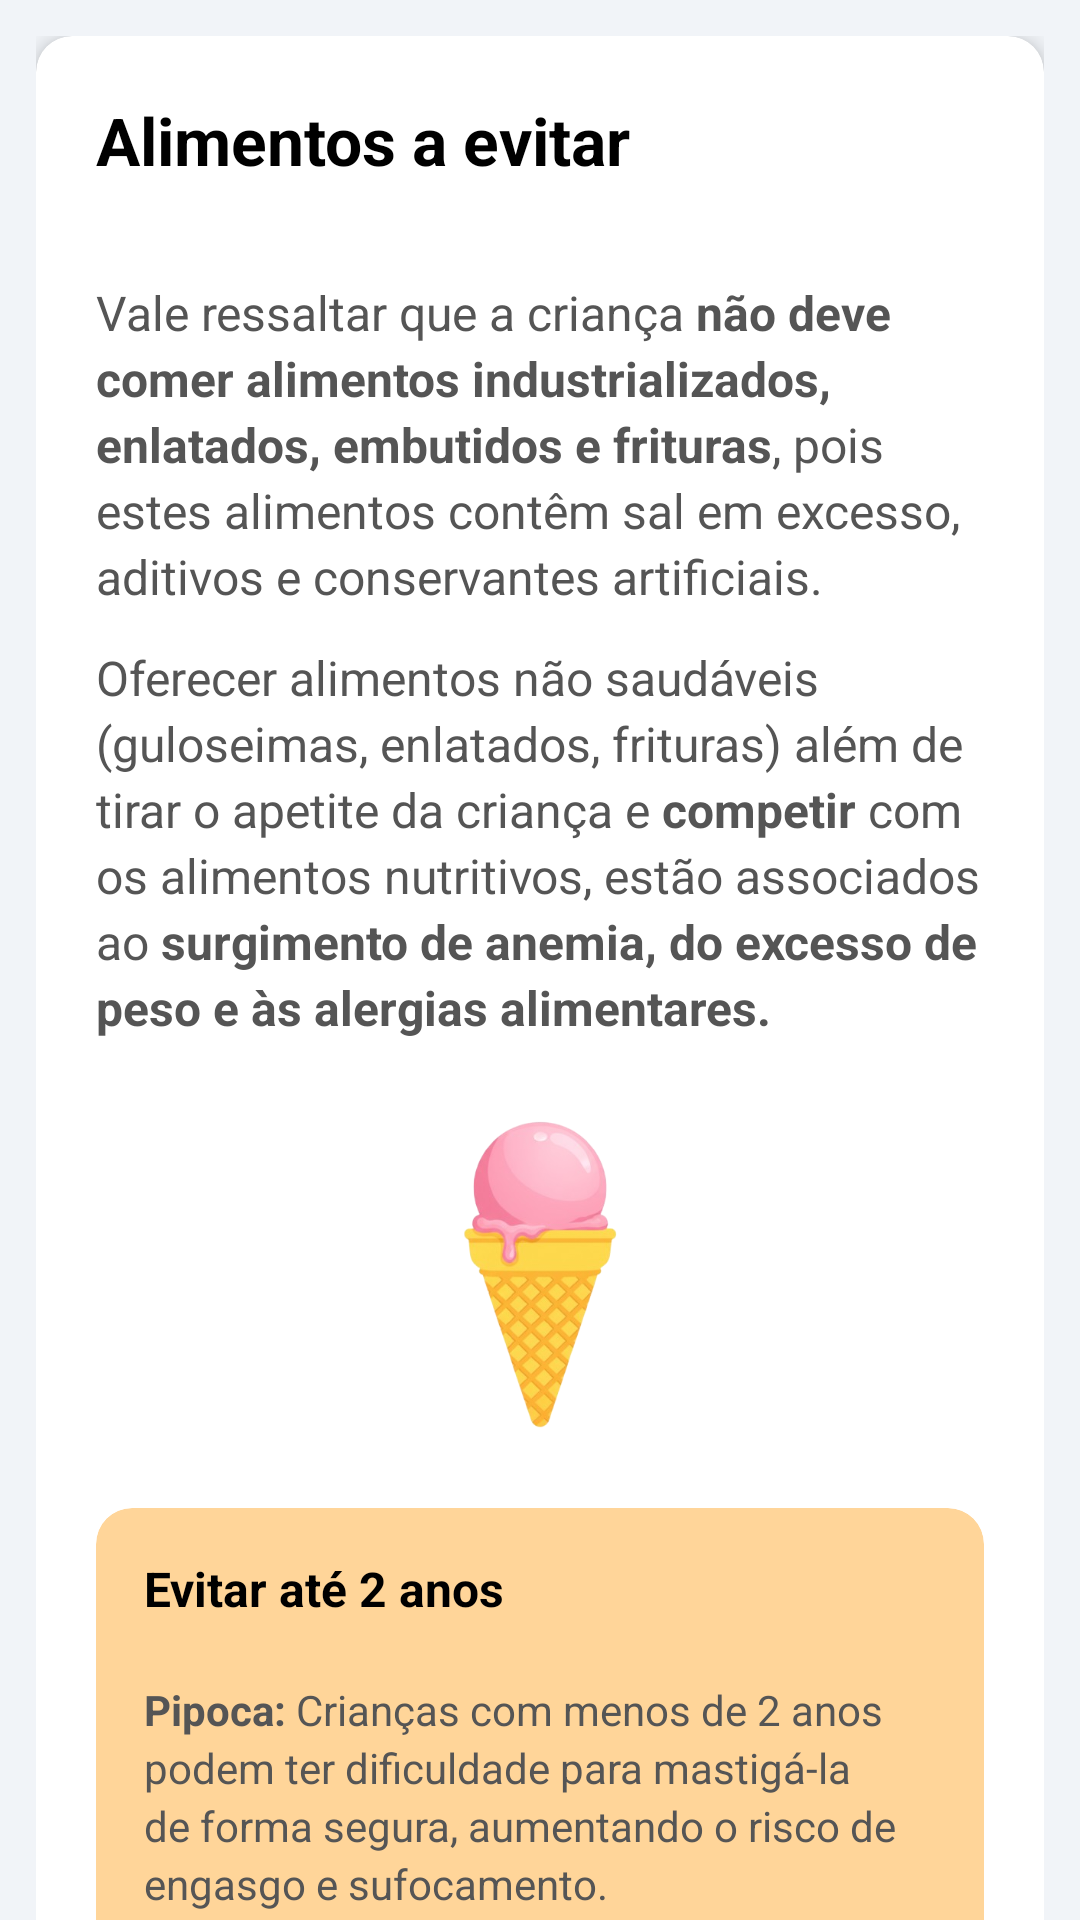

Named icons in this screenshot (1080px x 1920px) and their centers, (x=x, y=y):
Ícone de sorvete: (x=540, y=1274)
